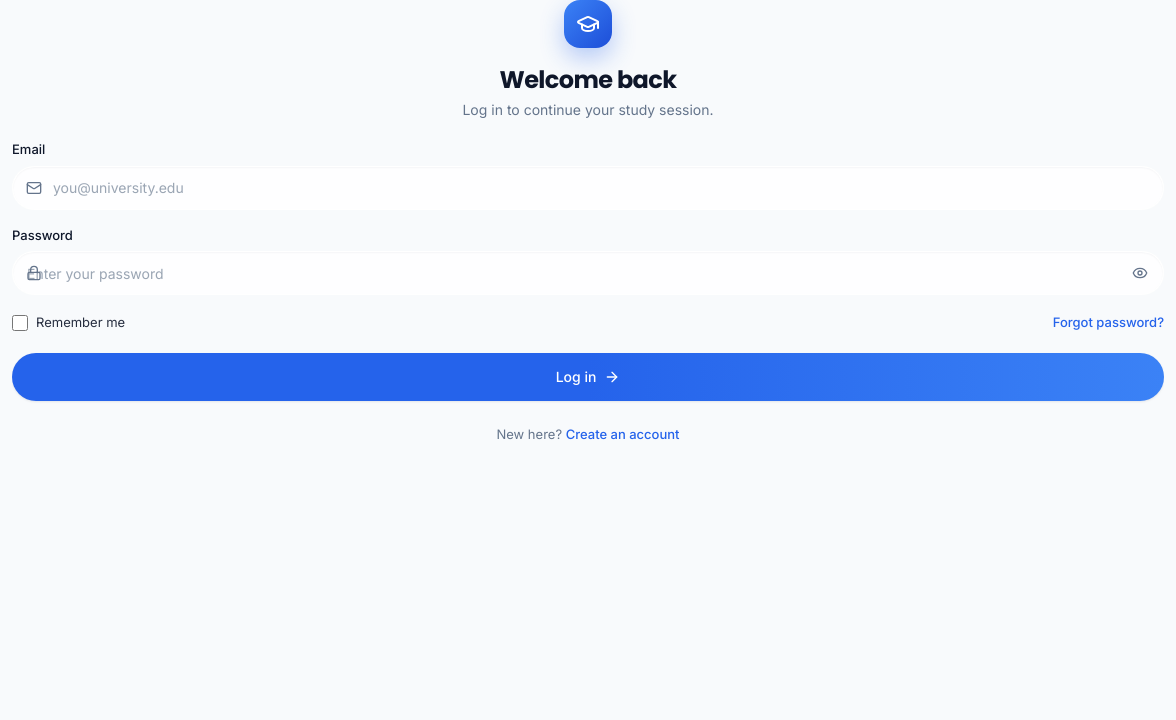
Scenario: LoginPage (T-UI-01, T-UI-02, T-UI-03, T-UI-06) › validates inline and shows errors on submit
Click the button "Log in": (588, 376) [12,352,1164,400]
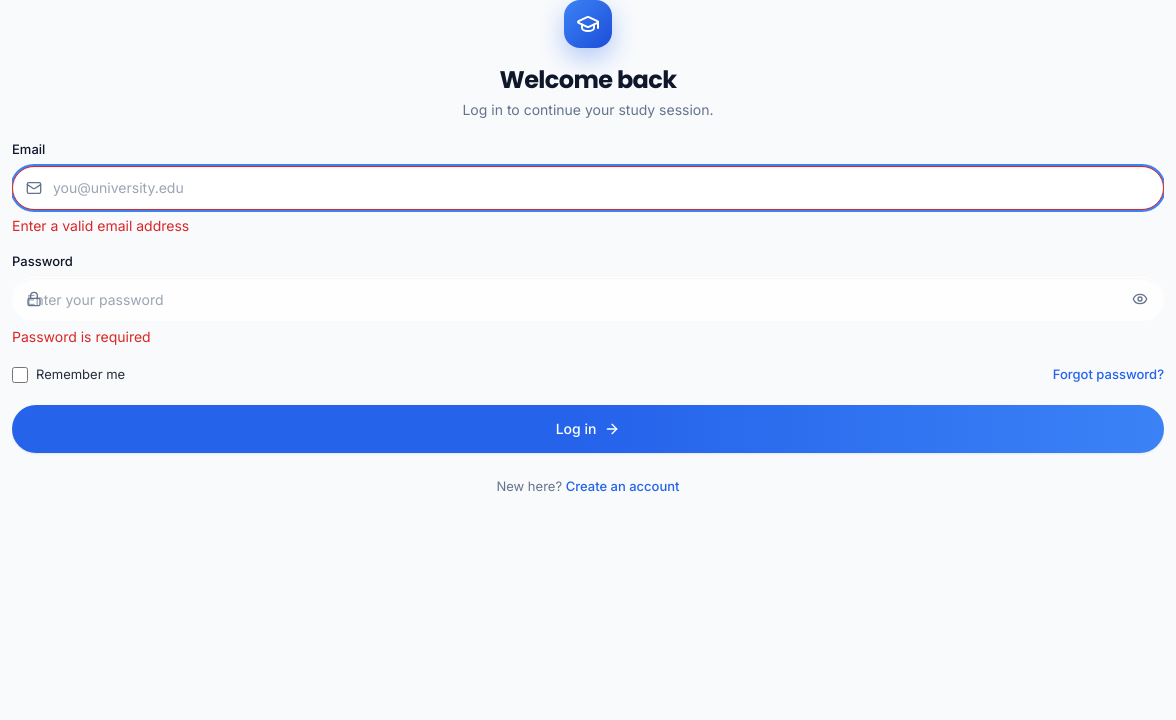
Now the text "Enter a valid email address" is shown, box [12,216,189,234]
Now the text "Password is required" is shown, box [12,328,151,345]
